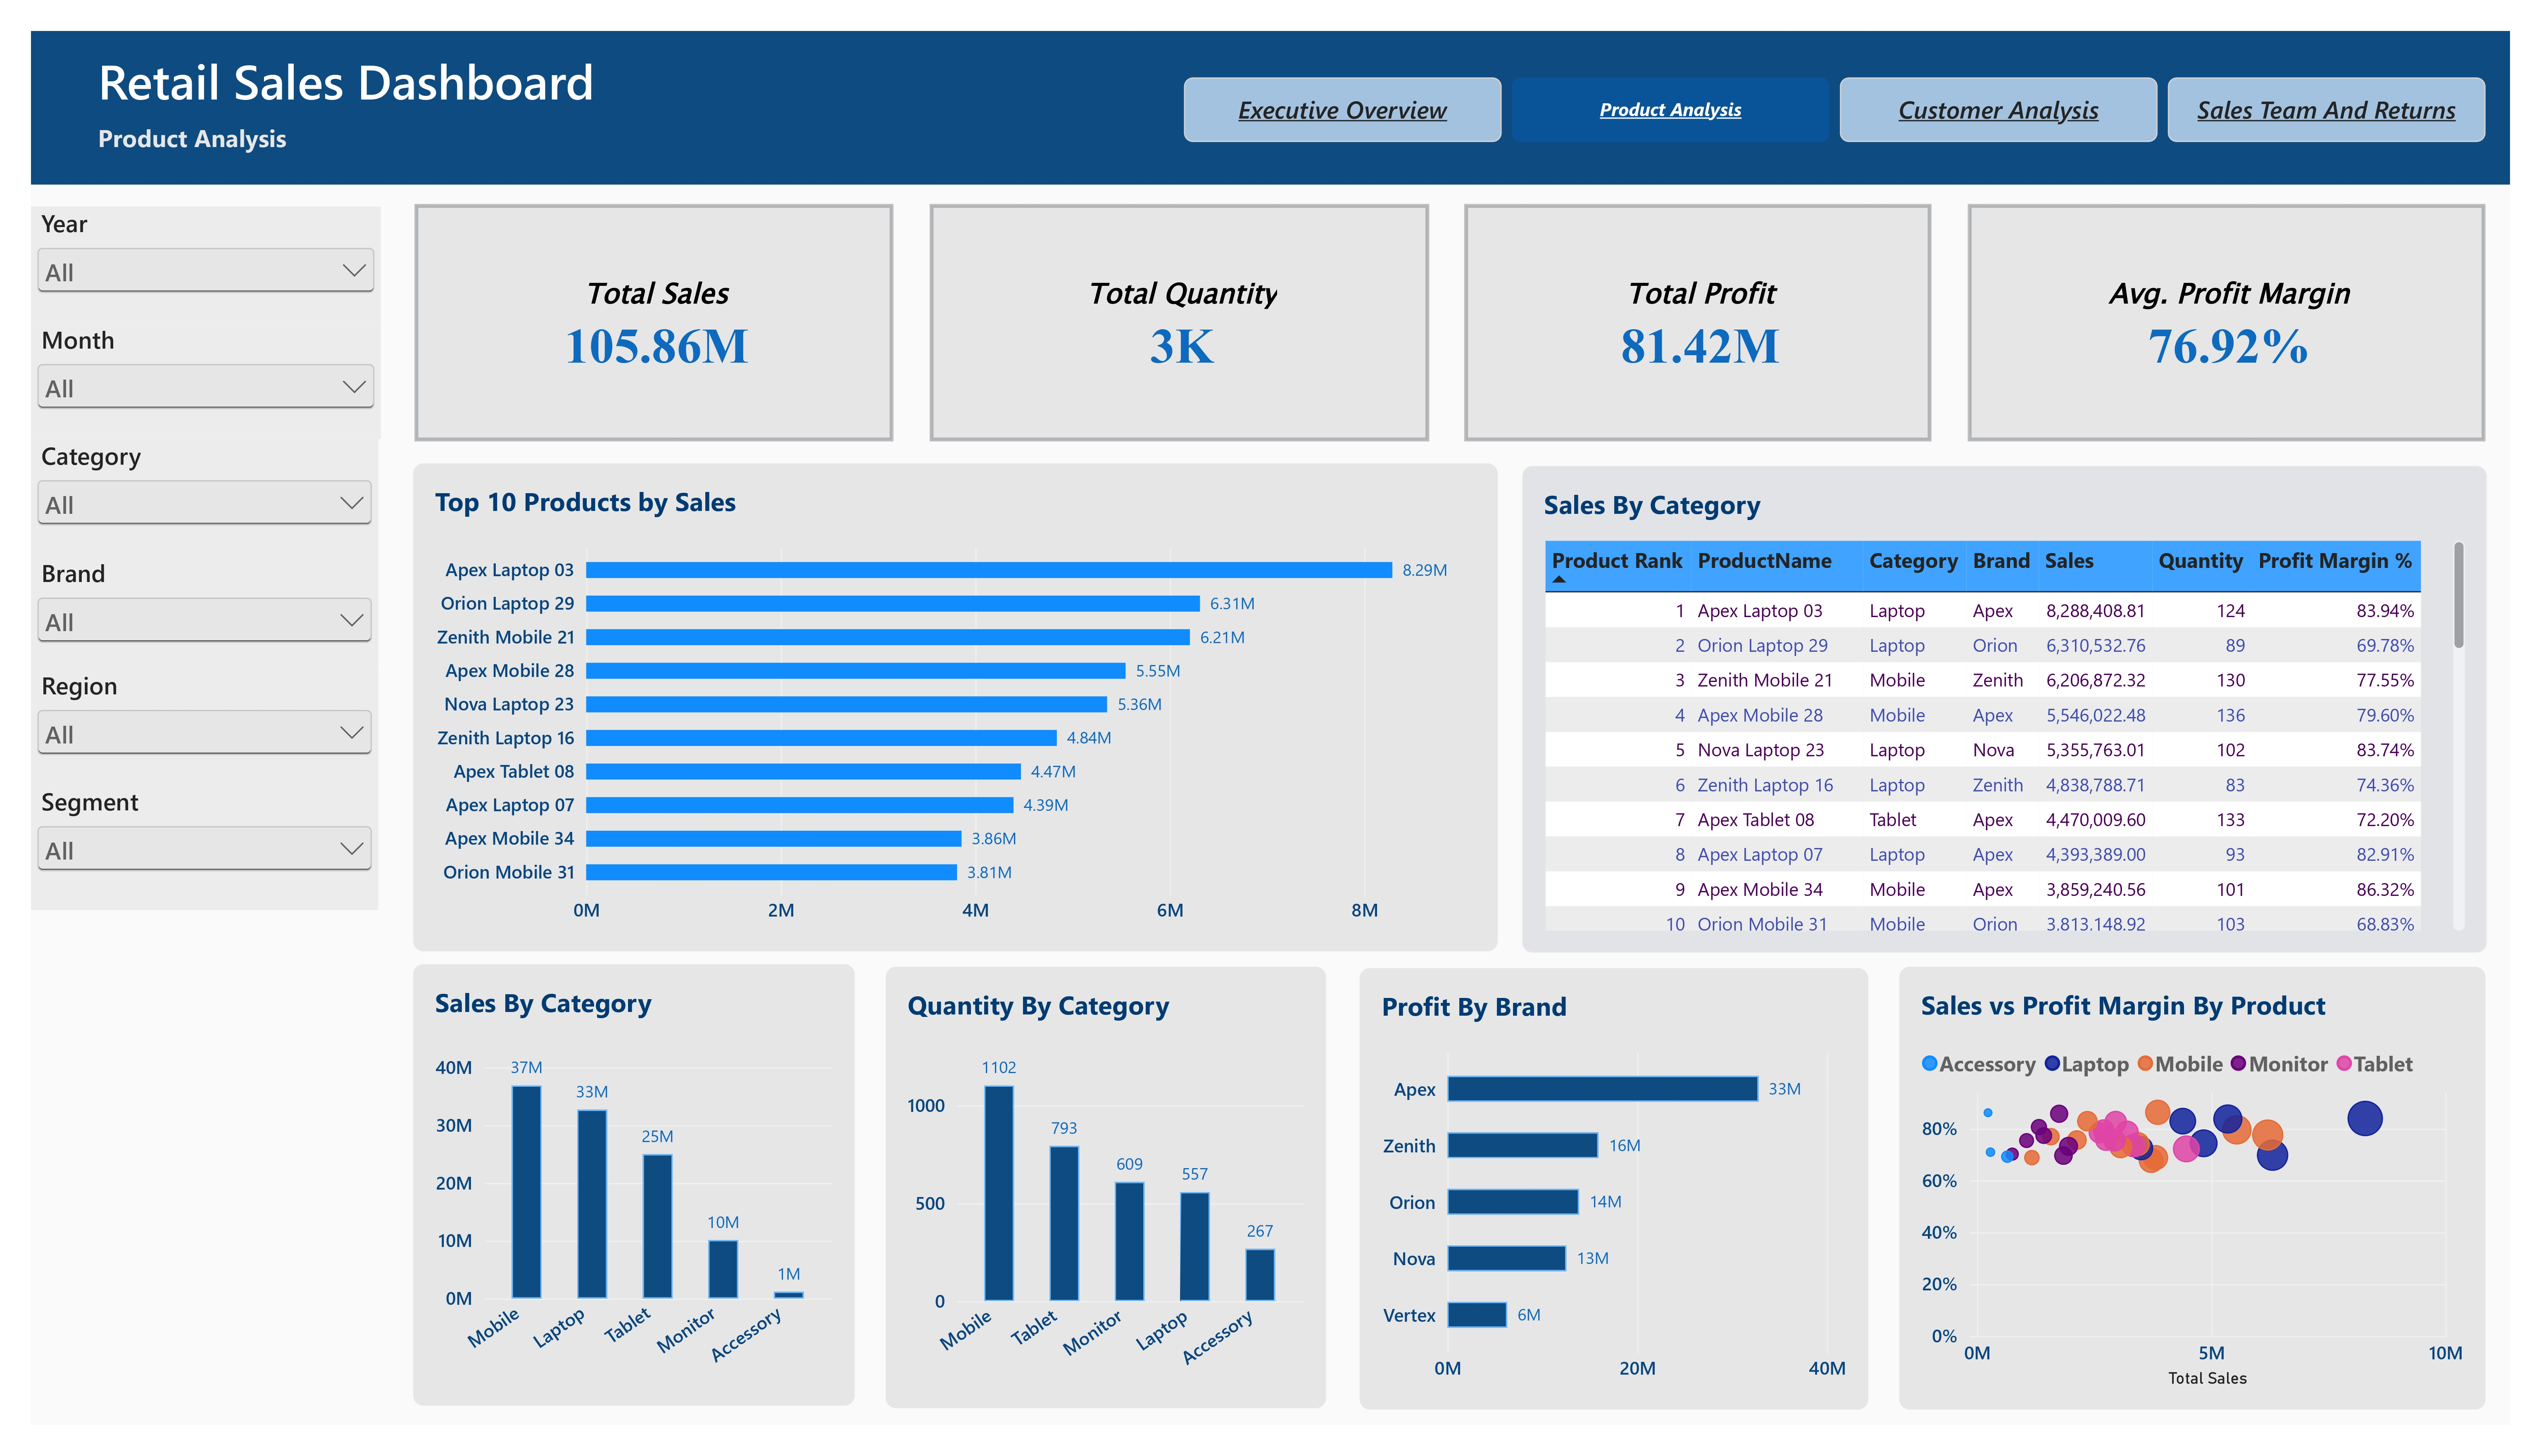

The dashboard page shown, as its layout file describes it:
{"tool":"powerbi","page":{"name":"Product Analysis","canvas":[1920,1080],"ordinal":1},"visuals":[{"type":"shape","box":[0,0,1919.9,119.4],"z":0},{"type":"textbox","box":[10.2,13.1,439.1,56.9],"z":1000},{"type":"textbox","box":[10.2,70,439.1,32.1],"z":2000},{"type":"slicer","fields":{"Values":["Calendar.Year"]},"box":[0,136,270.6,90.2],"z":3000},{"type":"slicer","fields":{"Values":["Calendar.MonthName"]},"box":[0,226.2,270.6,90.2],"z":4000},{"type":"slicer","fields":{"Values":["Products.Brand"]},"box":[0,406.6,269.4,90.2],"z":5000},{"type":"slicer","fields":{"Values":["Products.Category"]},"box":[0,316.4,269.4,90.2],"z":6000},{"type":"slicer","fields":{"Values":["Employees.Region"]},"box":[0,494.3,269.4,90.2],"z":7000},{"type":"slicer","fields":{"Values":["Customers.Segment"]},"box":[0,584.5,269.4,96.6],"z":8000},{"type":"cardVisual","fields":{"Data":[" Measures .Total Sales"]},"box":[296.8,133.8,371,184.2],"z":9000},{"type":"cardVisual","fields":{"Data":[" Measures .Total Profit"]},"box":[1110.4,133.8,361.7,184.2],"z":10000},{"type":"cardVisual","fields":{"Data":[" Measures .Total Quantity Sold"]},"box":[695.7,133.8,386.9,184.2],"z":11000},{"type":"cardVisual","fields":{"Data":[" Measures .Profit Margin %"]},"box":[1500,133.8,401.5,184.2],"z":12000},{"type":"clusteredBarChart","title":"Top 10 Products by Sales","fields":{"Category":["Products.ProductName"],"Y":[" Measures .Total Sales"]},"box":[296,335.4,840.1,377.6],"z":13000},{"type":"tableEx","title":"Sales By Category","fields":{"Values":[" Measures .Product Rank","Products.ProductName","Products.Category","Products.Brand"," Measures .Total Sales","Sum(Sales.Quantity)"," Measures .Profit Margin %"]},"box":[1155,336.7,747.1,377.4],"z":14000},{"type":"clusteredColumnChart","title":"Sales By Category","fields":{"Category":["Products.Category"],"Y":[" Measures .Total Sales"]},"box":[296.2,723.5,341.9,341.9],"z":15000},{"type":"scatterChart","title":"Sales vs Profit Margin By Product","fields":{"Category":["Products.ProductName"],"Series":["Products.Category"],"Size":[" Measures .Total Sales"],"X":[" Measures .Total Sales"],"Y":[" Measures .Profit Margin %"]},"box":[1447,725,453.8,343.3],"z":16000},{"type":"clusteredColumnChart","title":"Quantity By Category","fields":{"Category":["Products.Category"],"Y":[" Measures .Total Quantity Sold"]},"box":[661.6,725,341.9,341.9],"z":17000},{"type":"clusteredBarChart","title":"Profit By Brand","fields":{"Category":["Products.Brand"],"Y":[" Measures .Total Profit"]},"box":[1028.5,726.4,394.9,341.9],"z":18000},{"type":"pageNavigator","box":[892.9,36.5,1009.6,49.6],"z":19000}]}

Visuals, with their boxes on the page's 1920x1080 design canvas (x1, y1, x2, y2). These are canvas units, not pixel positions in the 2541x1456 screenshot, which may show the page scaled, cropped or inside an application window:
shape: (left=0, top=0, right=1920, bottom=119)
textbox: (left=10, top=13, right=449, bottom=70)
textbox: (left=10, top=70, right=449, bottom=102)
slicer - Calendar.Year: (left=0, top=136, right=271, bottom=226)
slicer - Calendar.MonthName: (left=0, top=226, right=271, bottom=316)
slicer - Products.Brand: (left=0, top=407, right=269, bottom=497)
slicer - Products.Category: (left=0, top=316, right=269, bottom=407)
slicer - Employees.Region: (left=0, top=494, right=269, bottom=584)
slicer - Customers.Segment: (left=0, top=584, right=269, bottom=681)
cardVisual -  Measures .Total Sales: (left=297, top=134, right=668, bottom=318)
cardVisual -  Measures .Total Profit: (left=1110, top=134, right=1472, bottom=318)
cardVisual -  Measures .Total Quantity Sold: (left=696, top=134, right=1083, bottom=318)
cardVisual -  Measures .Profit Margin %: (left=1500, top=134, right=1902, bottom=318)
"Top 10 Products by Sales" clusteredBarChart: (left=296, top=335, right=1136, bottom=713)
"Sales By Category" tableEx: (left=1155, top=337, right=1902, bottom=714)
"Sales By Category" clusteredColumnChart: (left=296, top=724, right=638, bottom=1065)
"Sales vs Profit Margin By Product" scatterChart: (left=1447, top=725, right=1901, bottom=1068)
"Quantity By Category" clusteredColumnChart: (left=662, top=725, right=1004, bottom=1067)
"Profit By Brand" clusteredBarChart: (left=1028, top=726, right=1423, bottom=1068)
pageNavigator: (left=893, top=36, right=1902, bottom=86)
